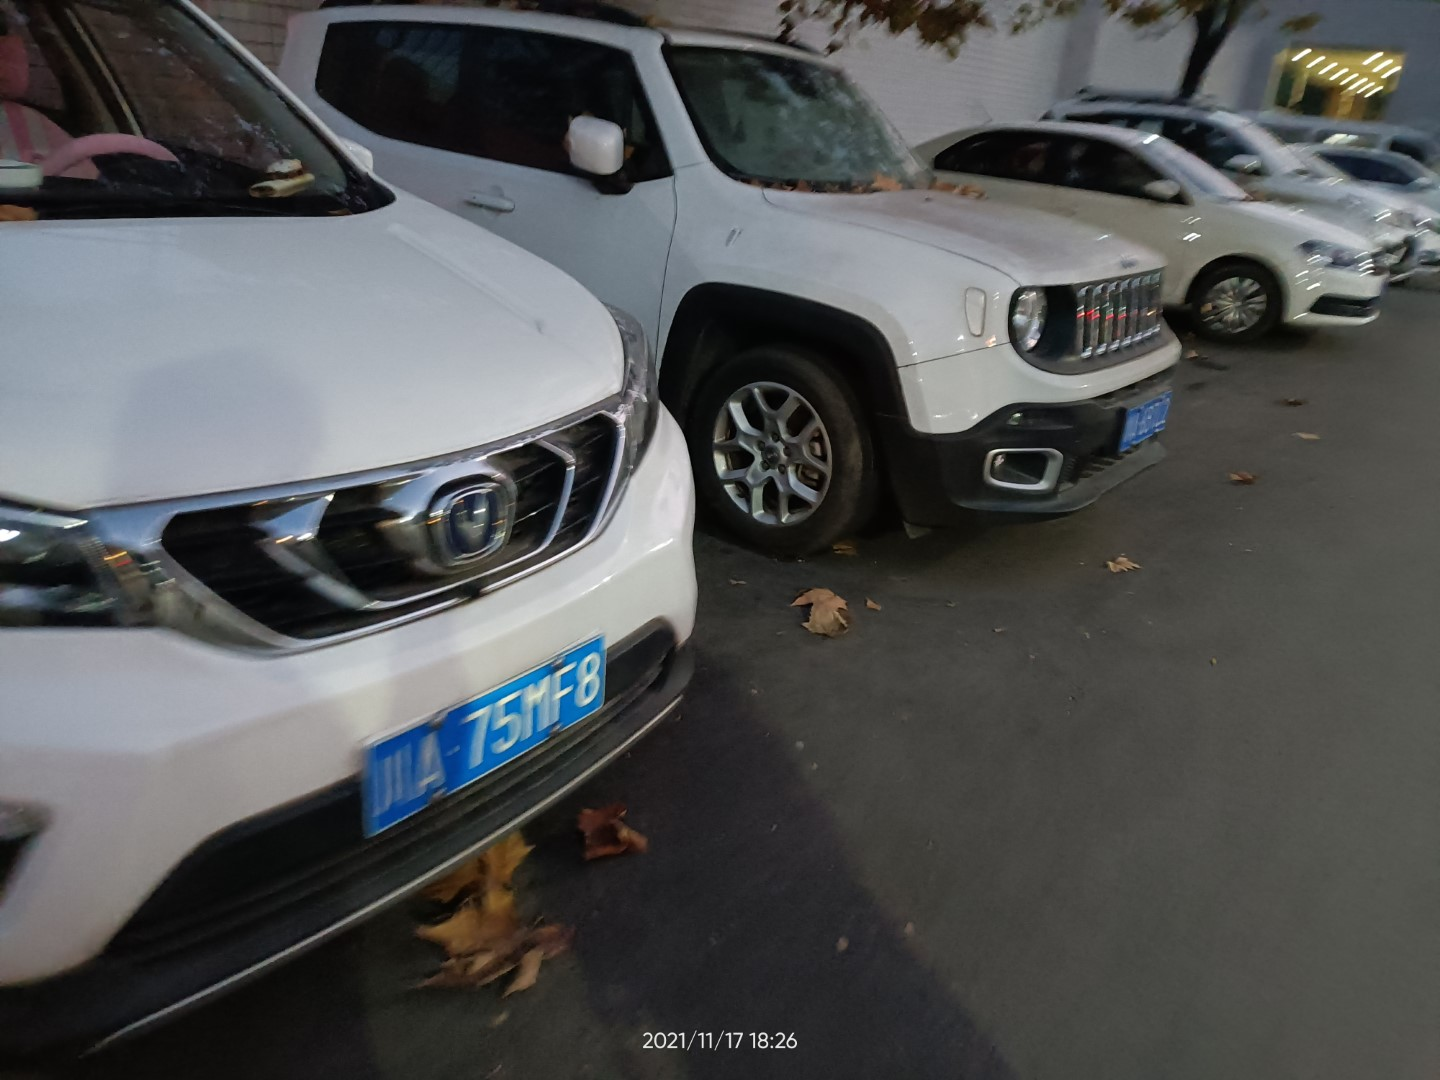plate: (361, 634, 609, 846)
